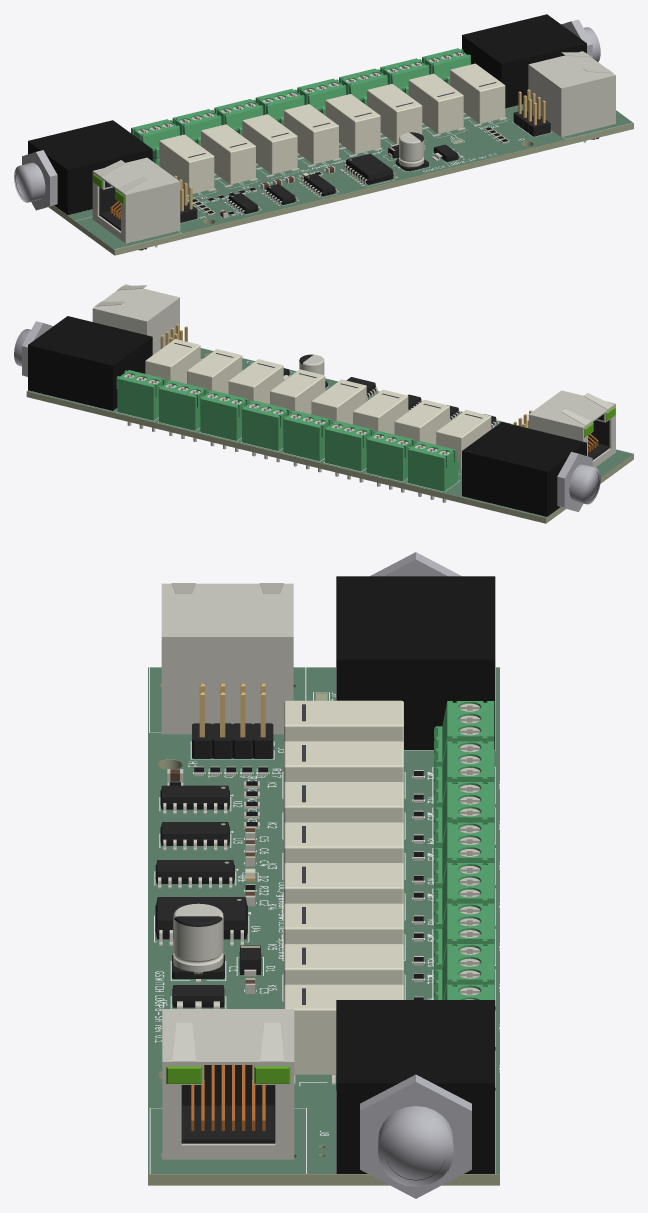
Rendered from gswitch-loop8sh.glb.
The picture shows the model from 3 angles, top to bottom: view 1: azimuth 30°, elevation 25°; view 2: azimuth 150°, elevation 25°; view 3: azimuth 270°, elevation 25°; orthographic projection. The views are drawn at different scales.
Parts seen in each view (by area): view 1: =>[0:1:1:5] (×8), =>[0:1:1:17] (×2), =>[0:1:1:39], ACJS_MH (Shell) (×4), =>[0:1:1:37], =>[0:1:1:3] (×8), =>[0:1:1:19] (×2), =>[0:1:1:25], =>[0:1:1:36], ACJS_MH (Face), =>[0:1:1:27], =>[0:1:1:21] (×2) (+2 smaller); view 2: ACJS_MH (Shell) (×4), =>[0:1:1:3] (×8), =>[0:1:1:5] (×8), =>[0:1:1:17] (×2), =>[0:1:1:39], =>[0:1:1:37], ACJS_MH (Face), =>[0:1:1:27], =>[0:1:1:36], =>[0:1:1:19]; view 3: ACJS_MH (Shell) (×5), =>[0:1:1:5] (×8), =>[0:1:1:37], =>[0:1:1:17] (×2), =>[0:1:1:39], =>[0:1:1:3] (×7), ACJS_MH (Face), =>[0:1:1:36], =>[0:1:1:19], =>[0:1:1:27], =>[0:1:1:21] (×2), =>[0:1:1:25] (+2 smaller).
Part boxes in pixels (box(x1,y1,x2,y2)): =>[0:1:1:5] (×8): box(159, 63, 507, 196); =>[0:1:1:17] (×2): box(92, 51, 615, 250); =>[0:1:1:39]: box(49, 105, 633, 255); ACJS_MH (Shell) (×4): box(22, 14, 586, 215); =>[0:1:1:37]: box(68, 104, 633, 249); =>[0:1:1:3] (×8): box(131, 48, 470, 165); =>[0:1:1:19] (×2): box(174, 89, 550, 222); =>[0:1:1:25]: box(341, 153, 397, 186); =>[0:1:1:36]: box(68, 104, 633, 249); ACJS_MH (Face): box(14, 162, 45, 202); =>[0:1:1:27]: box(395, 132, 428, 171); =>[0:1:1:21] (×2): box(225, 184, 299, 215); ACJS_MH (Shell) (×4): box(28, 316, 592, 516); =>[0:1:1:3] (×8): box(116, 370, 459, 502); =>[0:1:1:5] (×8): box(145, 339, 491, 469); =>[0:1:1:17] (×2): box(92, 284, 615, 467); =>[0:1:1:39]: box(26, 349, 633, 523); =>[0:1:1:37]: box(27, 348, 633, 517); ACJS_MH (Face): box(569, 464, 600, 504); =>[0:1:1:27]: box(299, 354, 327, 390); =>[0:1:1:36]: box(29, 358, 632, 515); =>[0:1:1:19]: box(160, 324, 187, 348); ACJS_MH (Shell) (×5): box(336, 576, 495, 1198); =>[0:1:1:5] (×8): box(284, 700, 403, 1084); =>[0:1:1:37]: box(148, 667, 499, 1173); =>[0:1:1:17] (×2): box(161, 583, 294, 1159); =>[0:1:1:39]: box(148, 668, 499, 1185); =>[0:1:1:3] (×7): box(434, 701, 494, 999); ACJS_MH (Face): box(378, 1106, 453, 1186); =>[0:1:1:36]: box(149, 667, 499, 1173); =>[0:1:1:19]: box(192, 683, 273, 758); =>[0:1:1:27]: box(172, 903, 224, 982); =>[0:1:1:21] (×2): box(160, 785, 229, 850); =>[0:1:1:25]: box(155, 897, 247, 946).
Size of the model in its own units: 0.1642 by 0.02 by 0.044.
